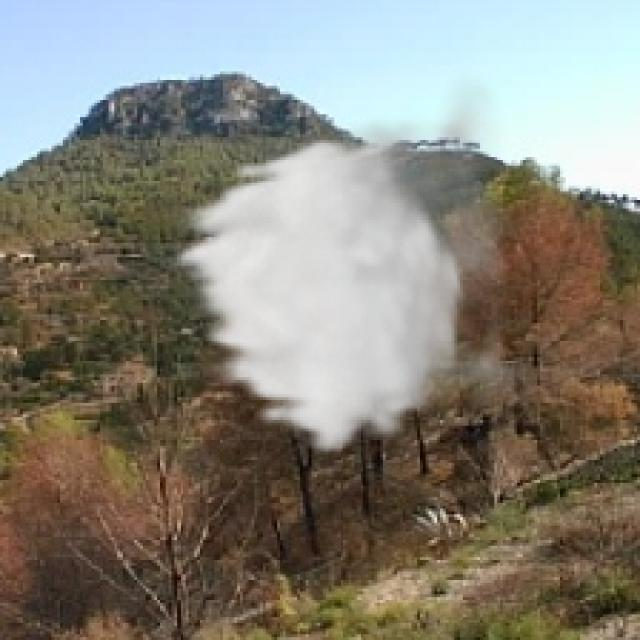Smoke: (162, 69, 538, 458)
